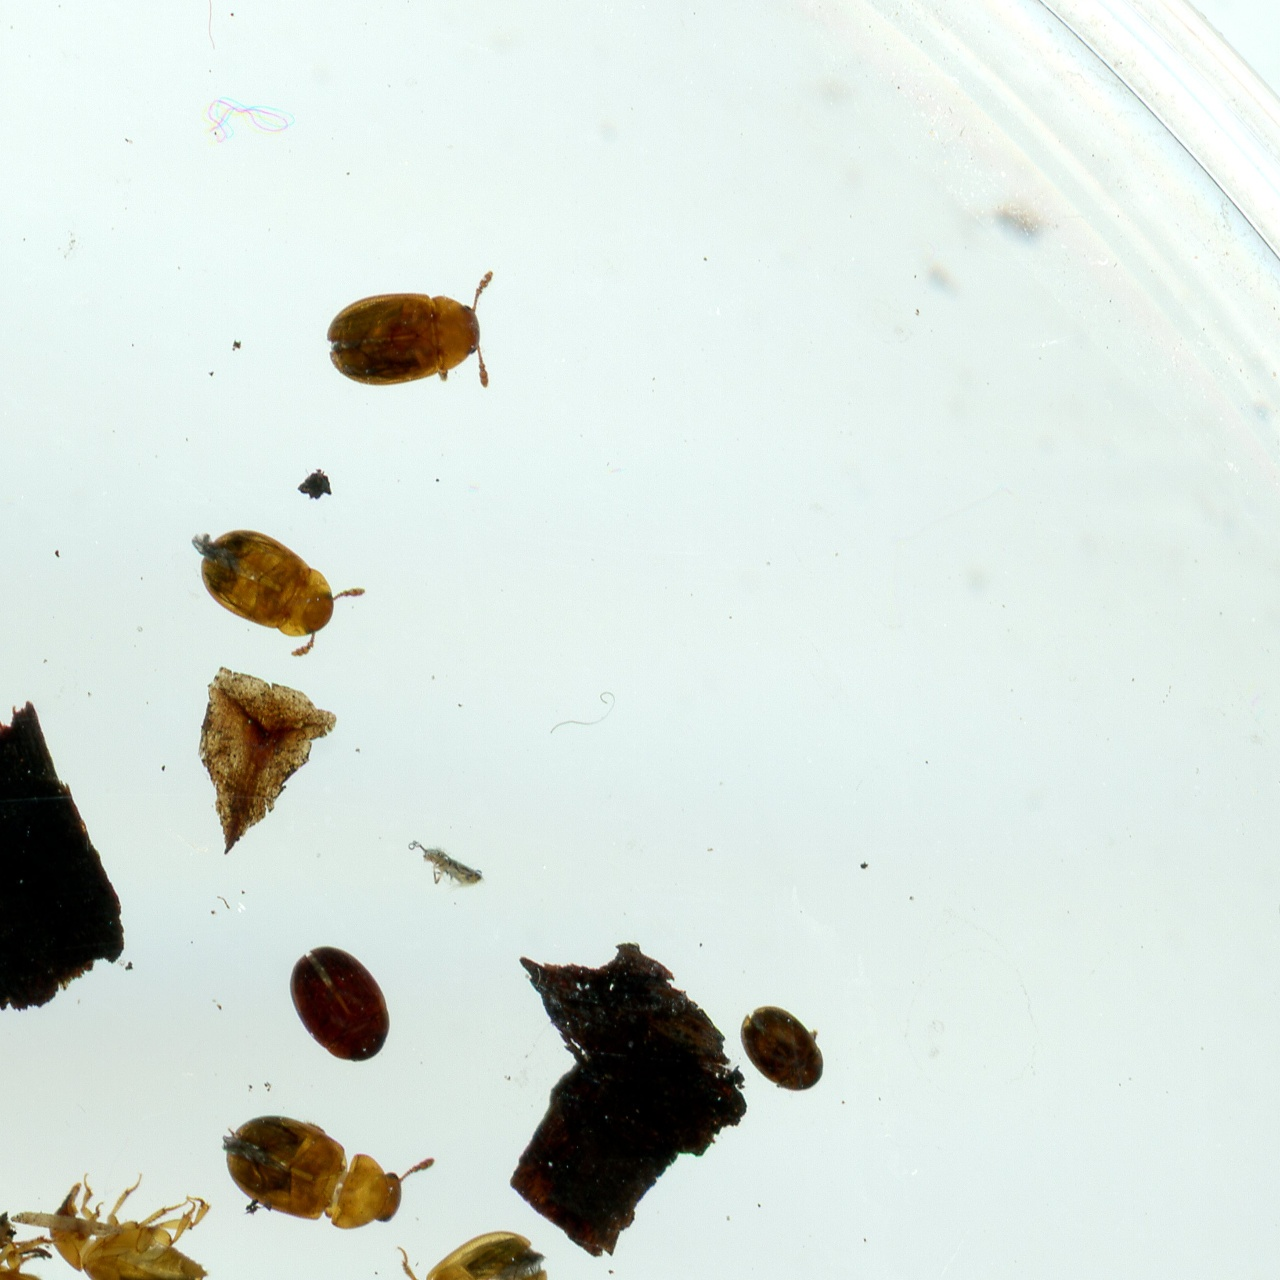arthropod: (215, 1102, 450, 1230), (190, 513, 367, 657), (327, 272, 505, 391), (61, 1165, 238, 1280), (286, 922, 397, 1065), (383, 1191, 535, 1280), (736, 1004, 829, 1093), (0, 1208, 74, 1280), (403, 836, 490, 892)
